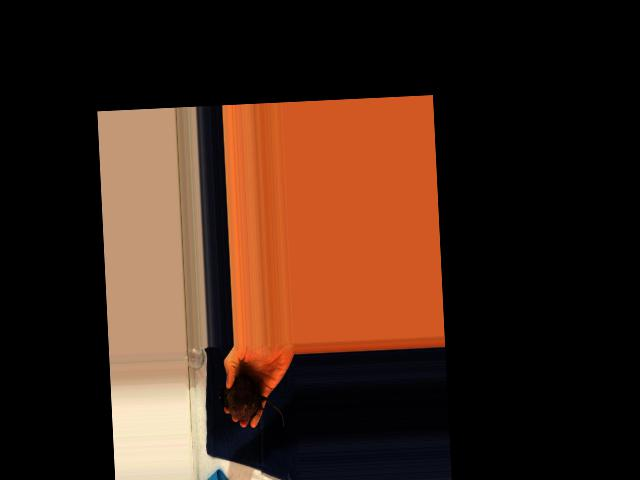beet: (218, 373, 284, 431)
